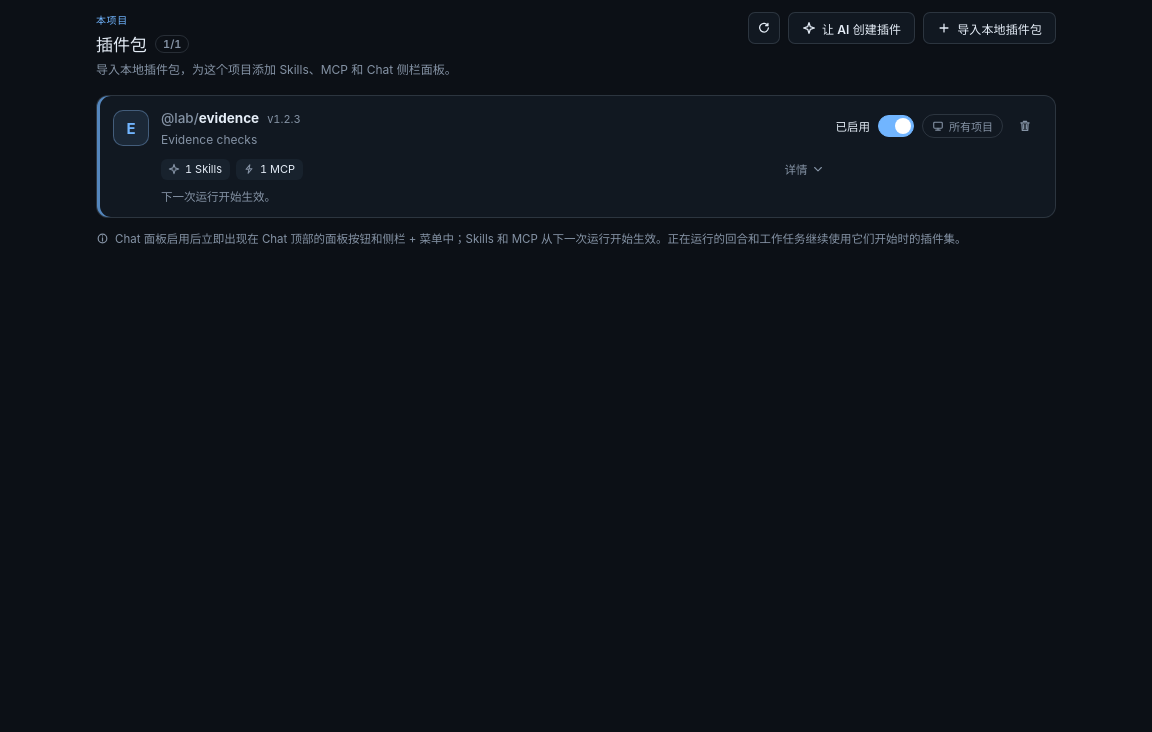
Test: Plugin packages › previews an upgrade as a diff against the approved version and re-approves it
expect the element "@lab/evidence" is shown: met, box [96, 95, 1056, 218]
Click the button "导入本地插件包" at (990, 28), box [923, 12, 1056, 44]
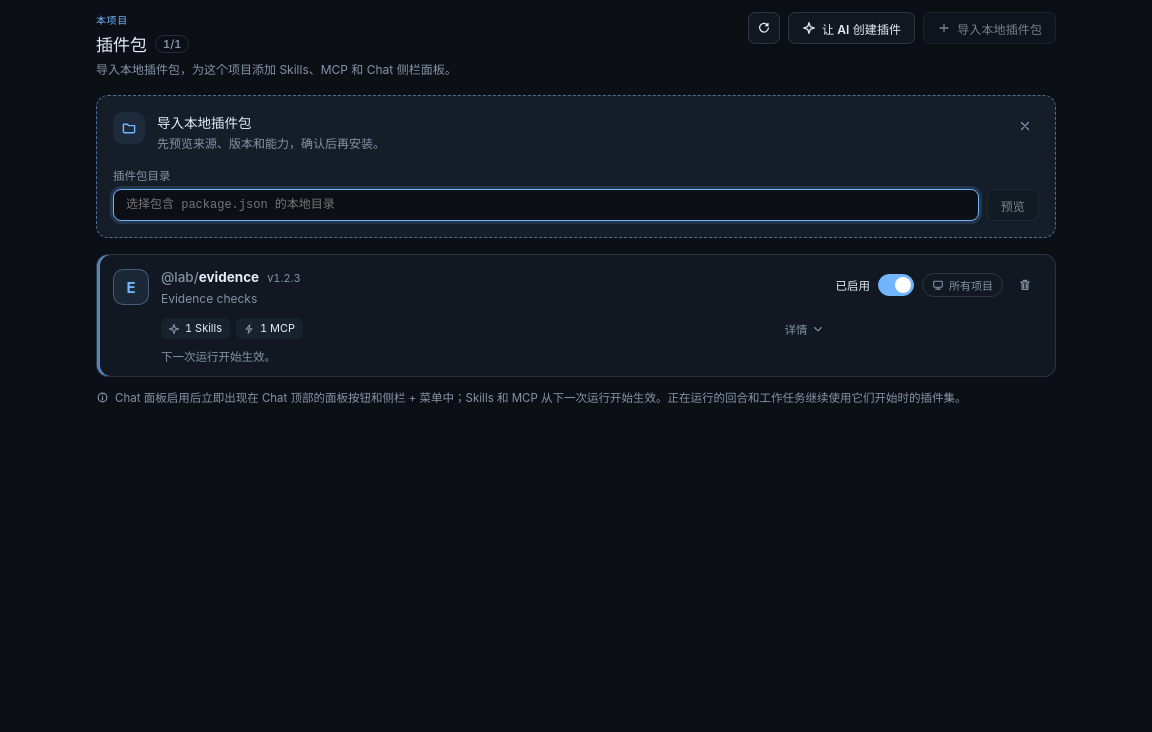
Type "F:/packages/evidence" into the field labelled "插件包目录" at (546, 205), box [113, 189, 979, 221]
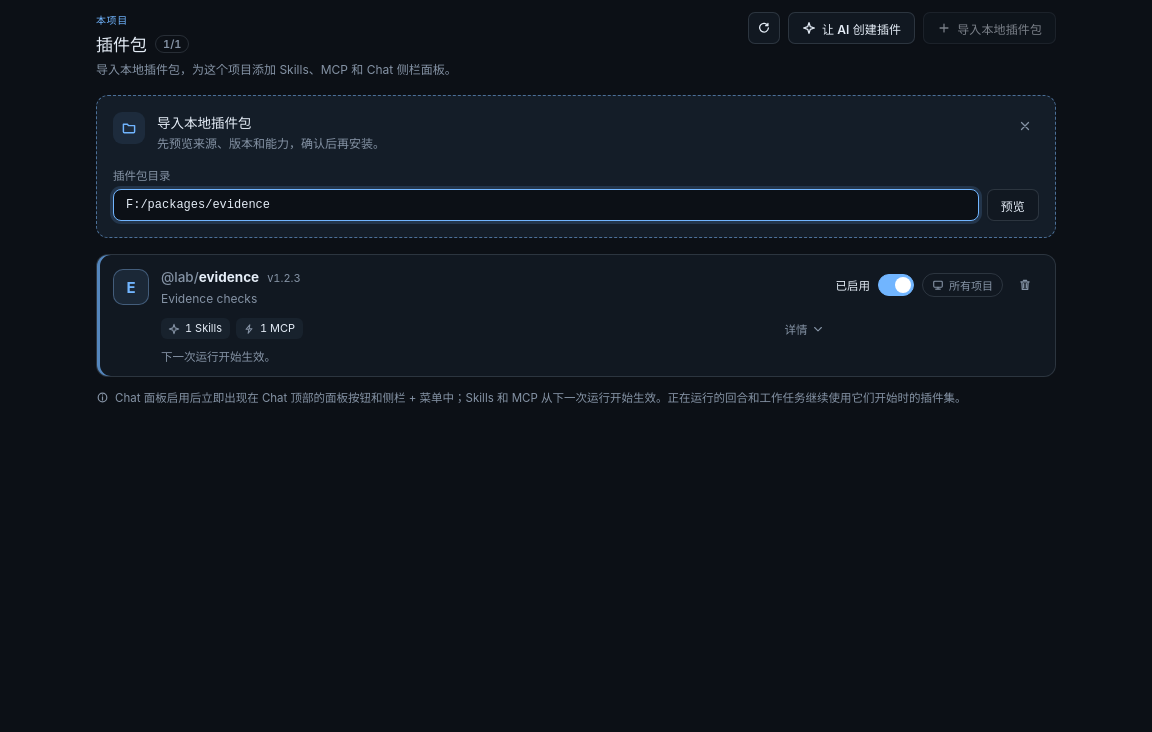
Click the button "预览" at (1013, 205), box [987, 189, 1039, 221]
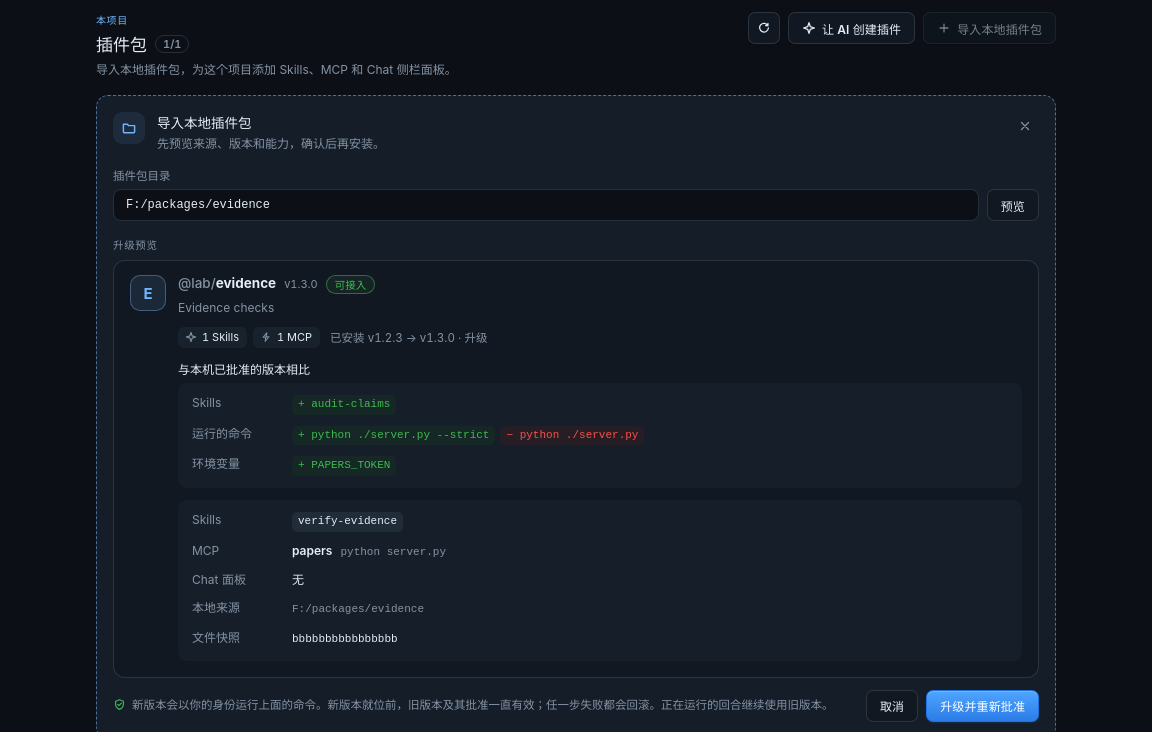
expect the text "升级预览" is shown: met, box [113, 239, 158, 252]
expect the text "已安装 v1.2.3 → v1.3.0 · 升级" is shown: met, box [330, 329, 487, 345]
expect the text "+ python ./server.py --strict" is shown: met, box [292, 426, 495, 445]
Click the button "升级并重新批准" at (983, 706), box [926, 690, 1039, 722]
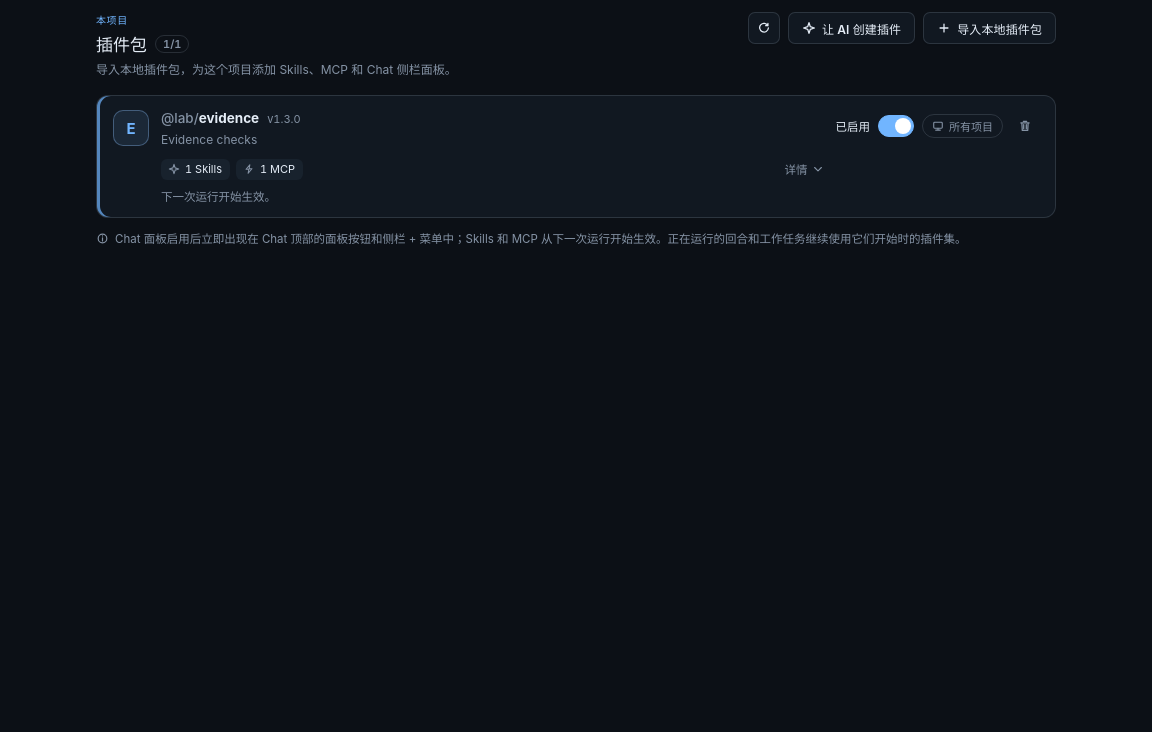
expect the text "v1.3.0" is shown: met, box [267, 112, 301, 126]
expect the text "升级预览" is gone: met
